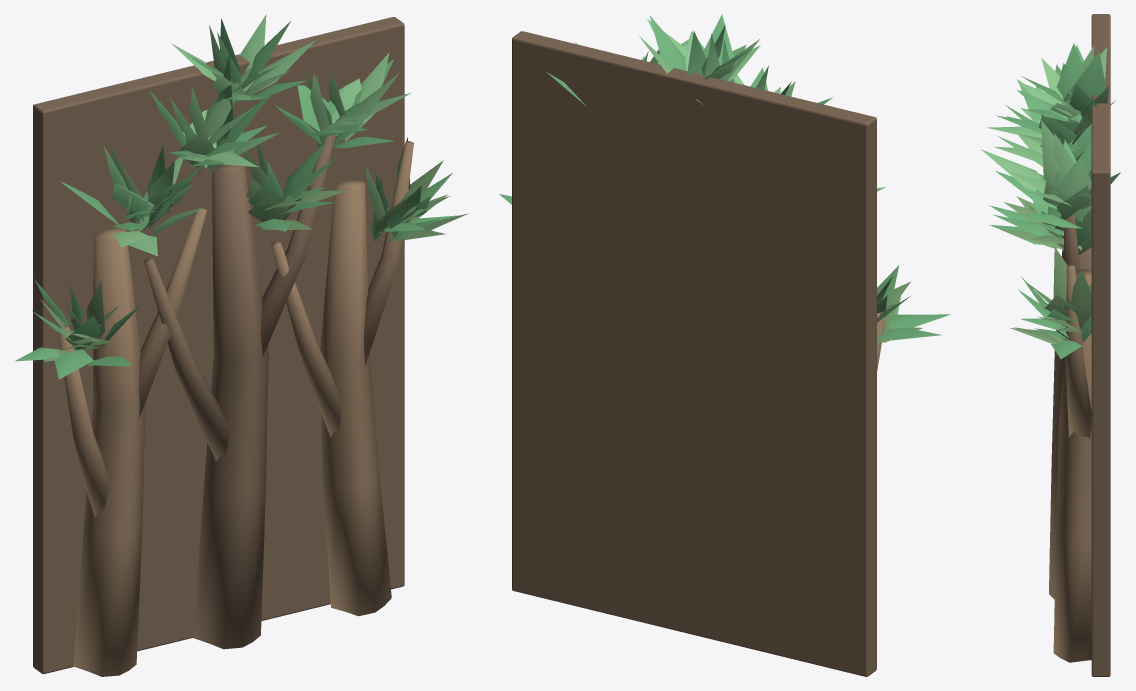
Rendered from tree_wall_lintel.glb.
3 renders of one model, left to right at view 1: azimuth 30°, elevation 25°; view 2: azimuth 150°, elevation 25°; view 3: azimuth 270°, elevation 25°, orthographic. The views are drawn at different scales.
Parts seen in each view (by area): view 1: LintelBack, LintelTrunk_1, LintelTrunk_0, LintelTrunk_2, LintelSpray_2, LintelSpray_4, LintelSpray_1, LintelSpray_6, LintelSpray_3, LintelSpray_0, LintelBranch_1_0, LintelSpray_5 (+5 smaller); view 2: LintelBack, LintelSpray_6, LintelSpray_0; view 3: LintelBack, LintelTrunk_2, LintelSpray_4, LintelSpray_6, LintelSpray_5, LintelBranch_2_1, LintelSpray_3, LintelSpray_2, LintelTrunk_1, LintelSpray_1, LintelBranch_1_1, LintelSpray_0.
Boxes of the visible parts, box(x1,y1,x2,y2) form: LintelBack: box(33, 17, 404, 674); LintelTrunk_1: box(193, 164, 268, 649); LintelTrunk_0: box(73, 227, 145, 676); LintelTrunk_2: box(320, 179, 391, 616); LintelSpray_2: box(149, 53, 280, 172); LintelSpray_4: box(274, 52, 410, 152); LintelSpray_1: box(60, 145, 204, 256); LintelSpray_6: box(171, 14, 315, 103); LintelSpray_3: box(242, 134, 347, 232); LintelSpray_0: box(15, 278, 142, 379); LintelBranch_1_0: box(144, 258, 230, 461); LintelSpray_5: box(365, 137, 468, 241); LintelBack: box(512, 31, 876, 676); LintelSpray_6: box(639, 14, 760, 81); LintelSpray_0: box(877, 265, 950, 342); LintelBack: box(1091, 14, 1110, 676); LintelTrunk_2: box(1053, 269, 1091, 662); LintelSpray_4: box(981, 120, 1120, 228); LintelSpray_6: box(1016, 43, 1109, 127); LintelSpray_5: box(1010, 246, 1091, 359); LintelBranch_2_1: box(1065, 264, 1091, 439); LintelSpray_3: box(989, 200, 1091, 254); LintelSpray_2: box(987, 64, 1115, 158); LintelTrunk_1: box(1049, 247, 1091, 599); LintelSpray_1: box(994, 63, 1084, 166); LintelBranch_1_1: box(1063, 214, 1080, 339); LintelSpray_0: box(989, 196, 1041, 244).
Bounding box in the file's own units: 2.31 × 3 × 0.6996.
